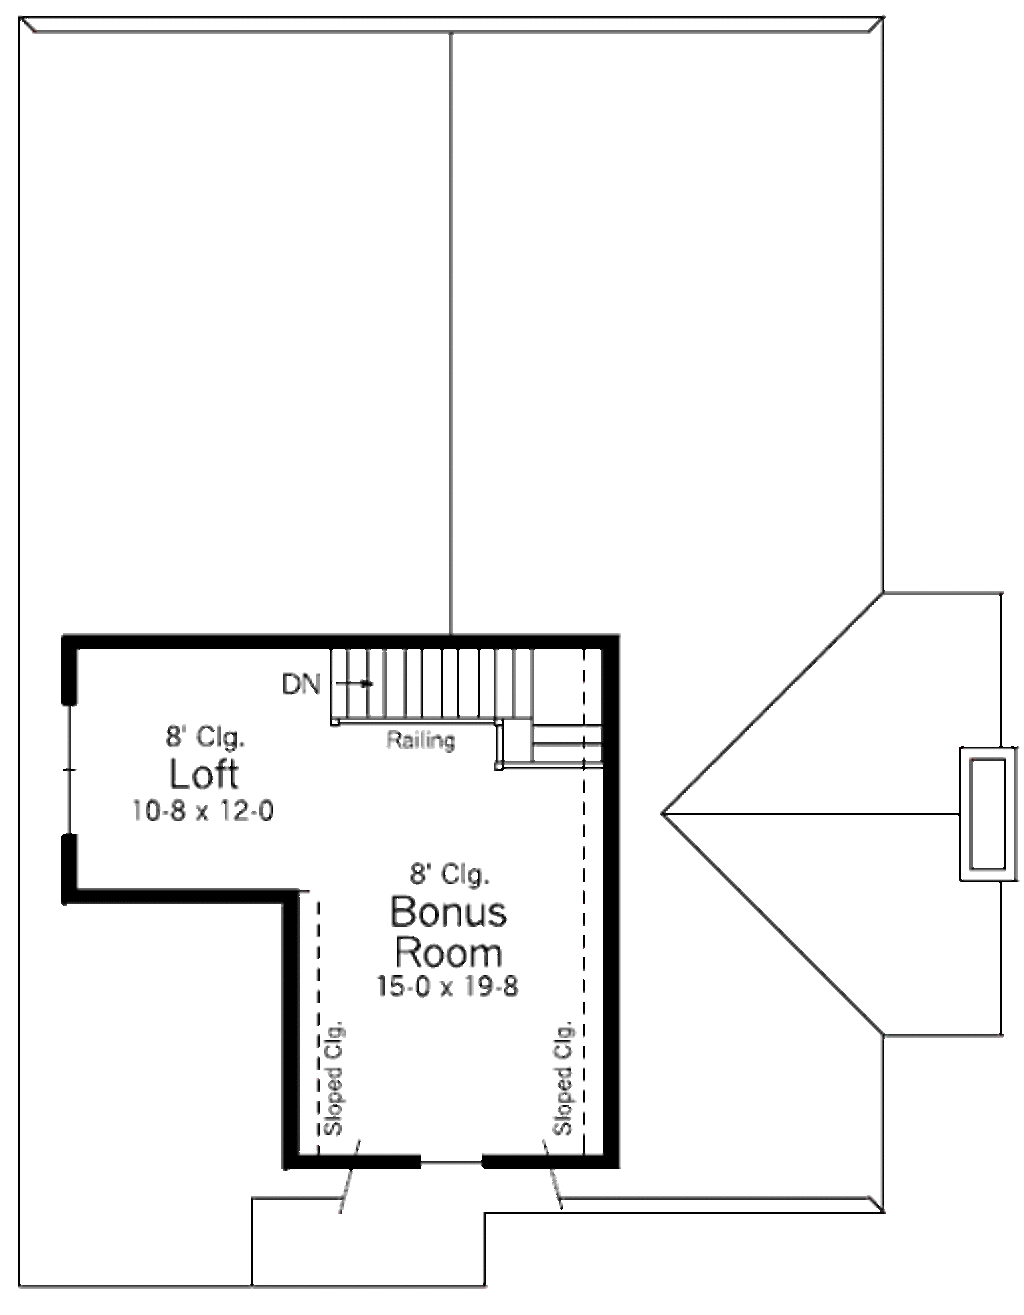stairs: (319, 653, 613, 805)
window: (61, 706, 75, 841), (418, 1153, 467, 1175)
